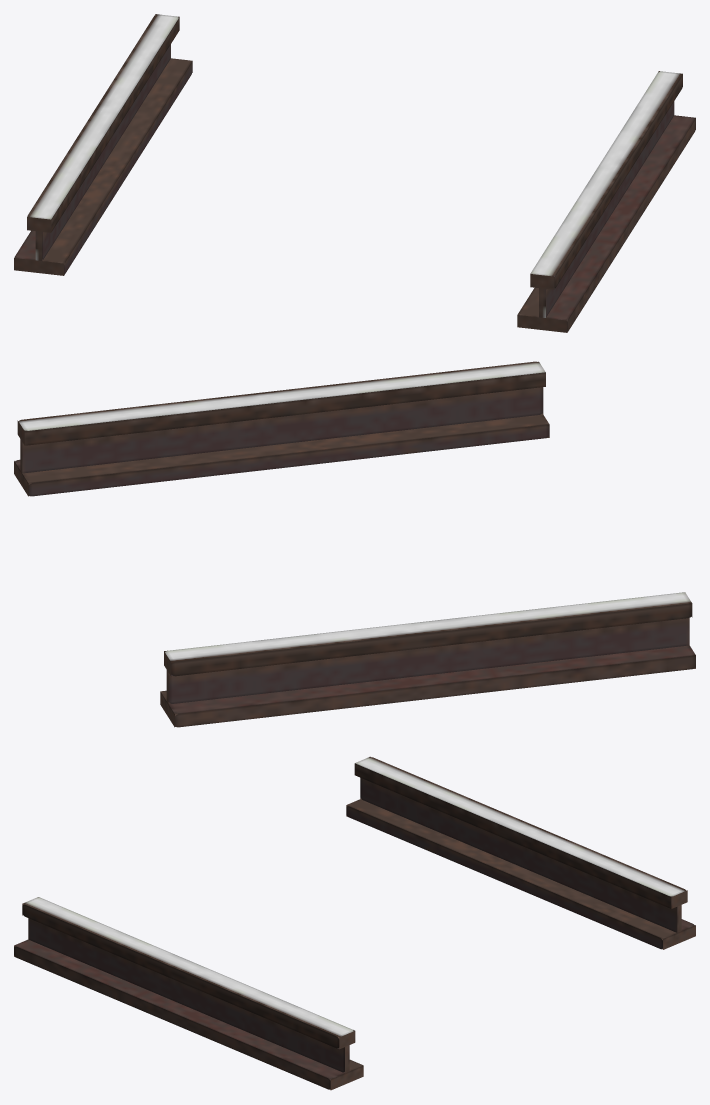
Rendered from diag_2.obj.
3 renders of one model, top to bottom at view 1: azimuth 30°, elevation 25°; view 2: azimuth 150°, elevation 25°; view 3: azimuth 270°, elevation 25°, orthographic. The views are drawn at different scales.
Visible parts, largest first — view 1: cube; view 2: cube; view 3: cube.
Boxes of the visible parts, box(x1,y1,x2,y2) form: cube: box(14, 14, 695, 332); cube: box(14, 361, 695, 727); cube: box(14, 756, 695, 1090).
Size of the model in its own units: 2.19 by 0.1754 by 2.19.
